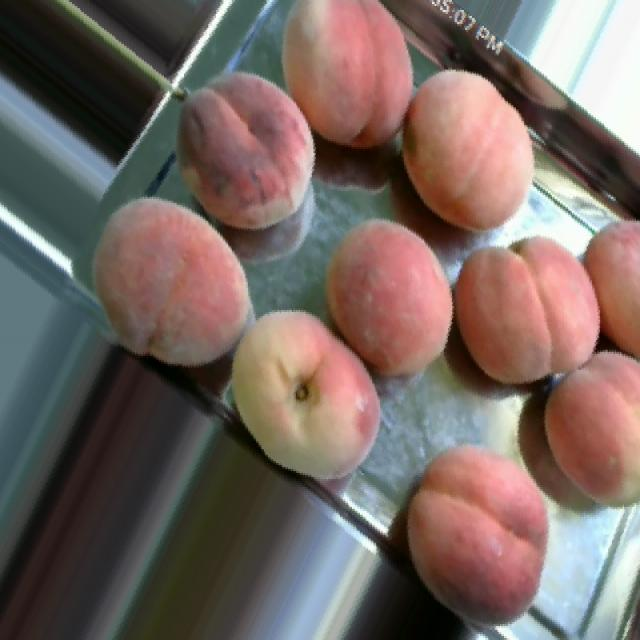Fruit: (197, 282, 412, 509), (63, 173, 280, 397), (376, 419, 579, 638), (374, 46, 562, 256), (151, 50, 340, 250), (447, 207, 621, 409), (295, 201, 464, 405), (260, 0, 440, 163), (518, 322, 640, 536)
